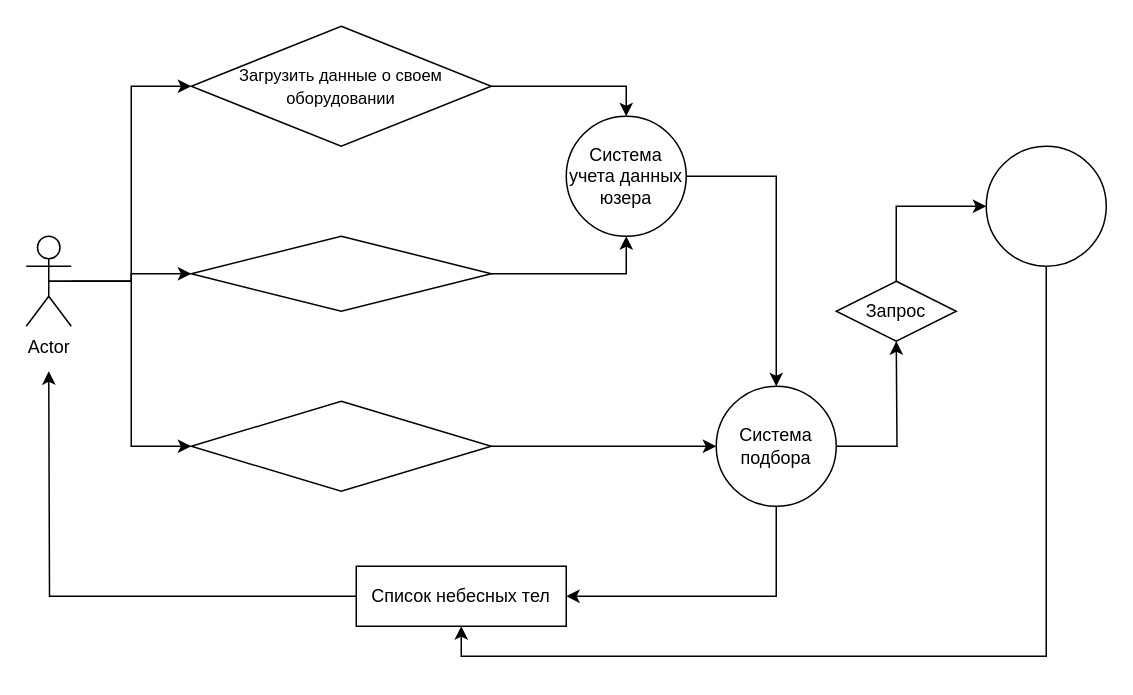
Image size: 1133x695. Some labels were removed from this diagram. The shapes that lost their labels are listed below. From the top down, each one's centre as x and y in pixels, then its label:
the point at 1045,205: База знаний о небесных телах
the point at 340,273: Выбрать локацию
the point at 340,445: Запросить текущие видные объекты
